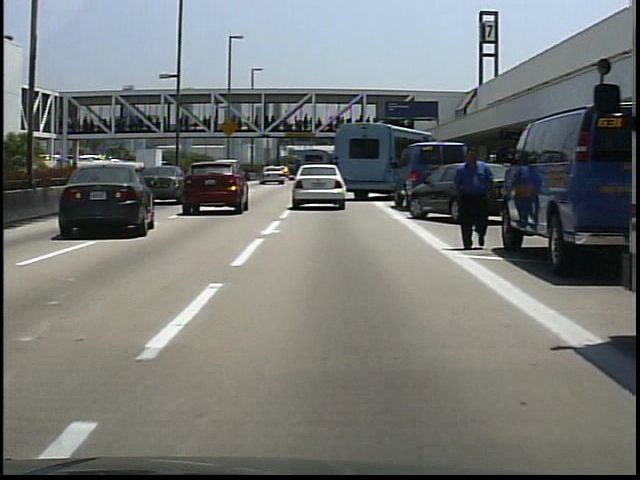person: (448, 147, 496, 250)
